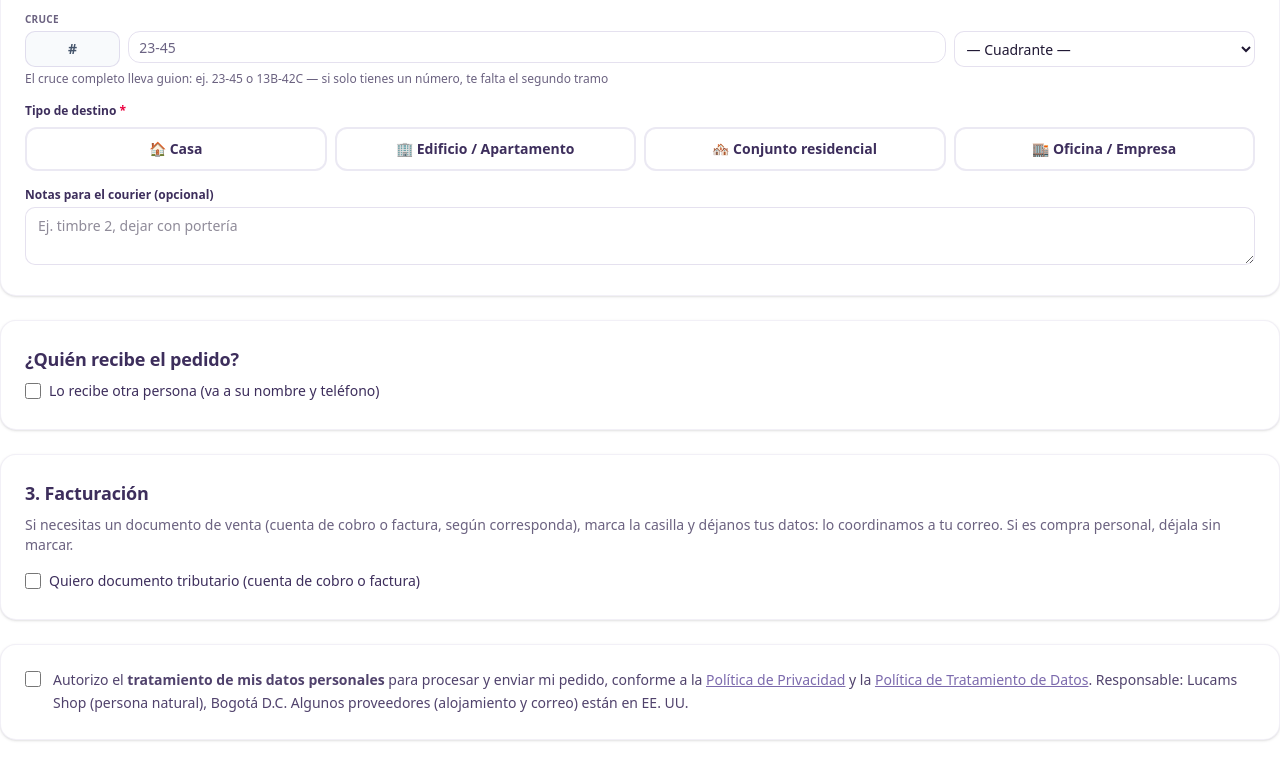
Test: DatosForm — 'Usar los datos del comprador' (facturación, flag ON) › la copia es una acción re-disparable: si el contacto cambia, se re-copia
The width and height of the screenshot is (1280, 759).
(page scrolled)
Click the checkbox named "wantsInvoice" at (33, 581), box [25,573,41,589]
(page scrolled)
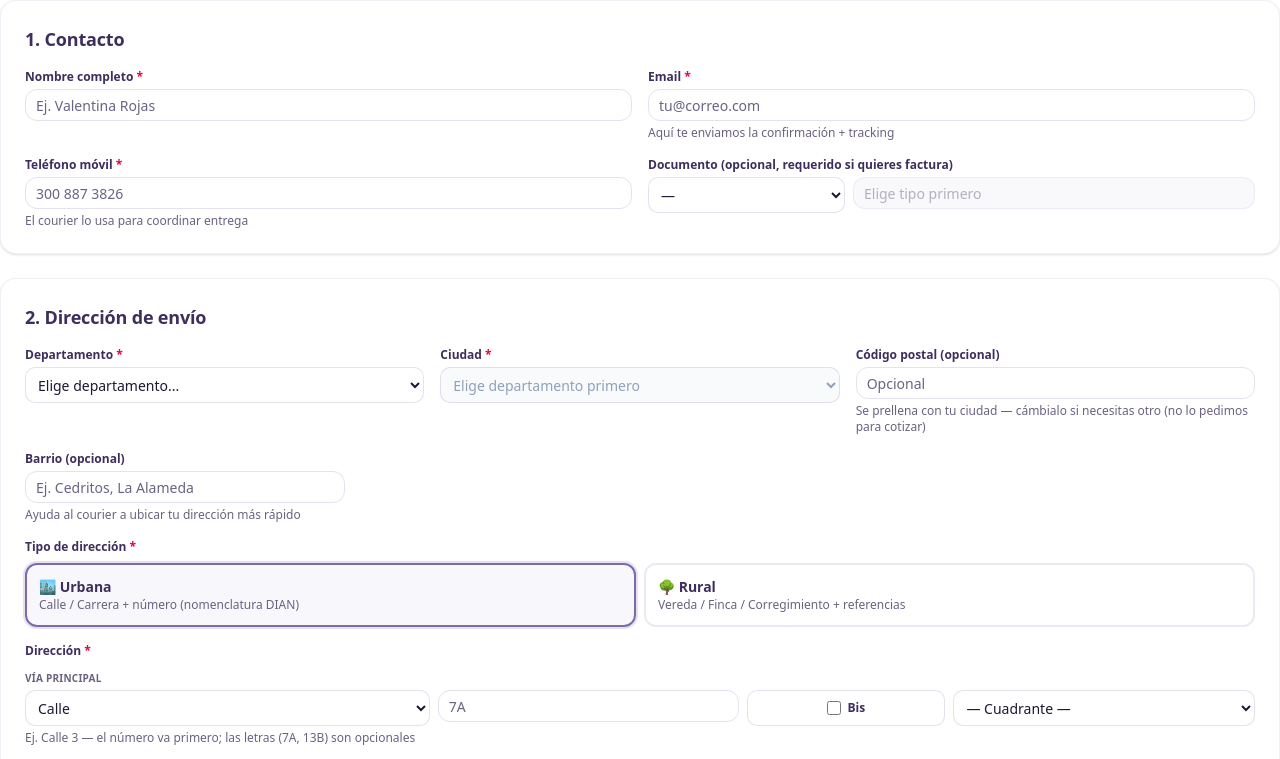
Type "Ana Gómez" into the field with id "fullName" at (328, 105), box [25,89,632,121]
(page scrolled)
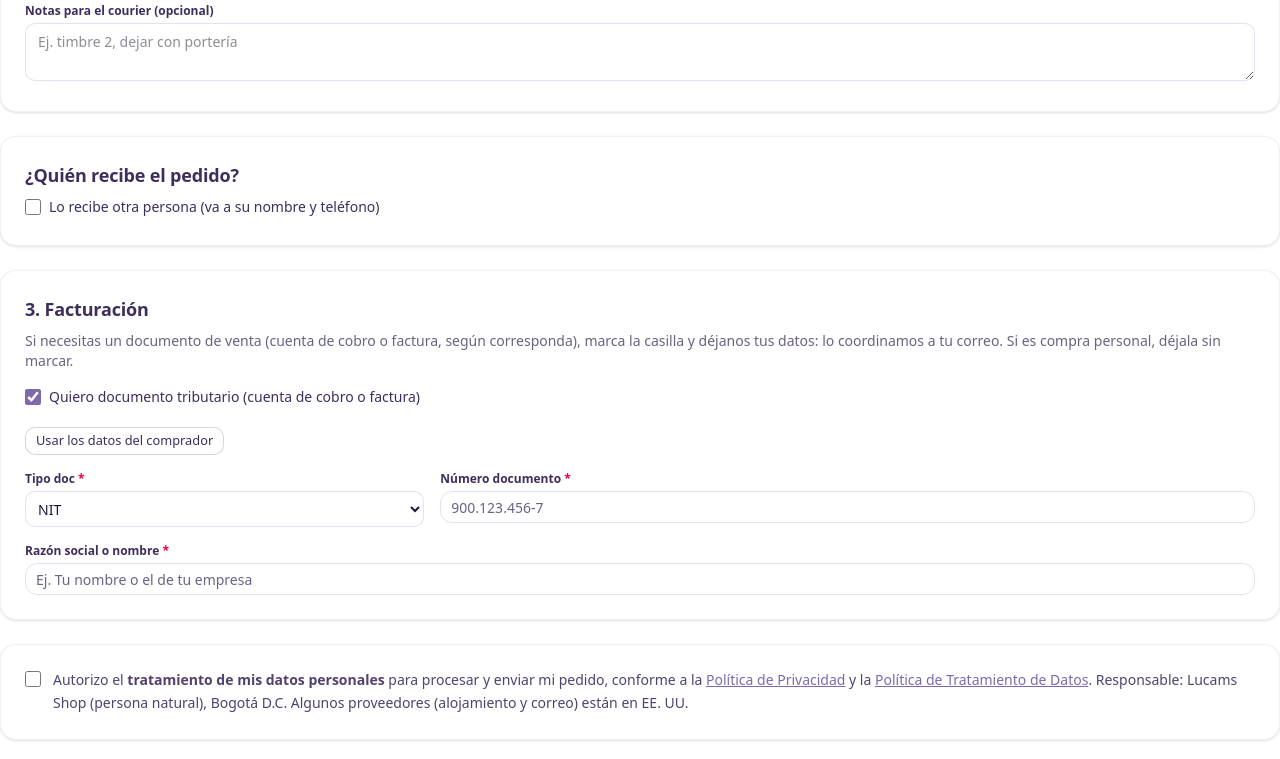
Click the button "Usar los datos del comprador" at (125, 441), box [25,427,224,455]
(page scrolled)
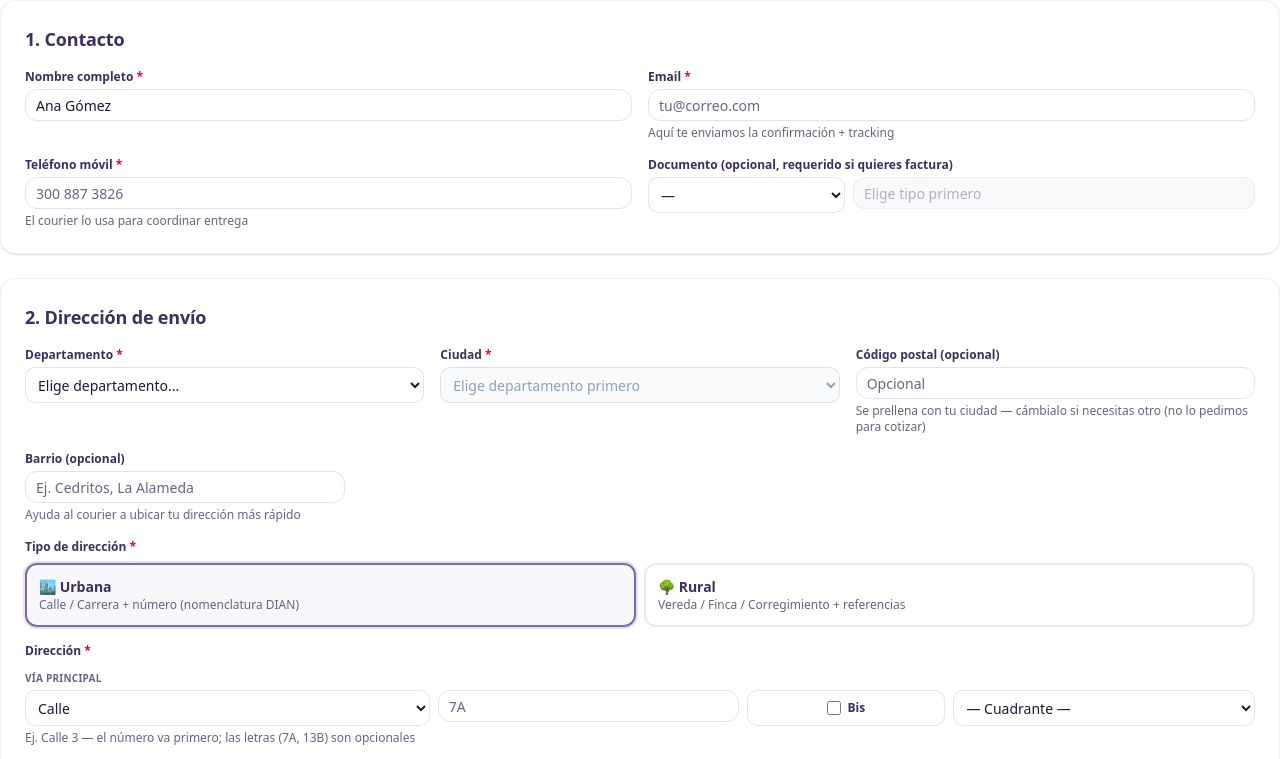
Replace the text in the field with id "fullName" with "Ana Gómez Paz" at (328, 105), box [25,89,632,121]
(page scrolled)
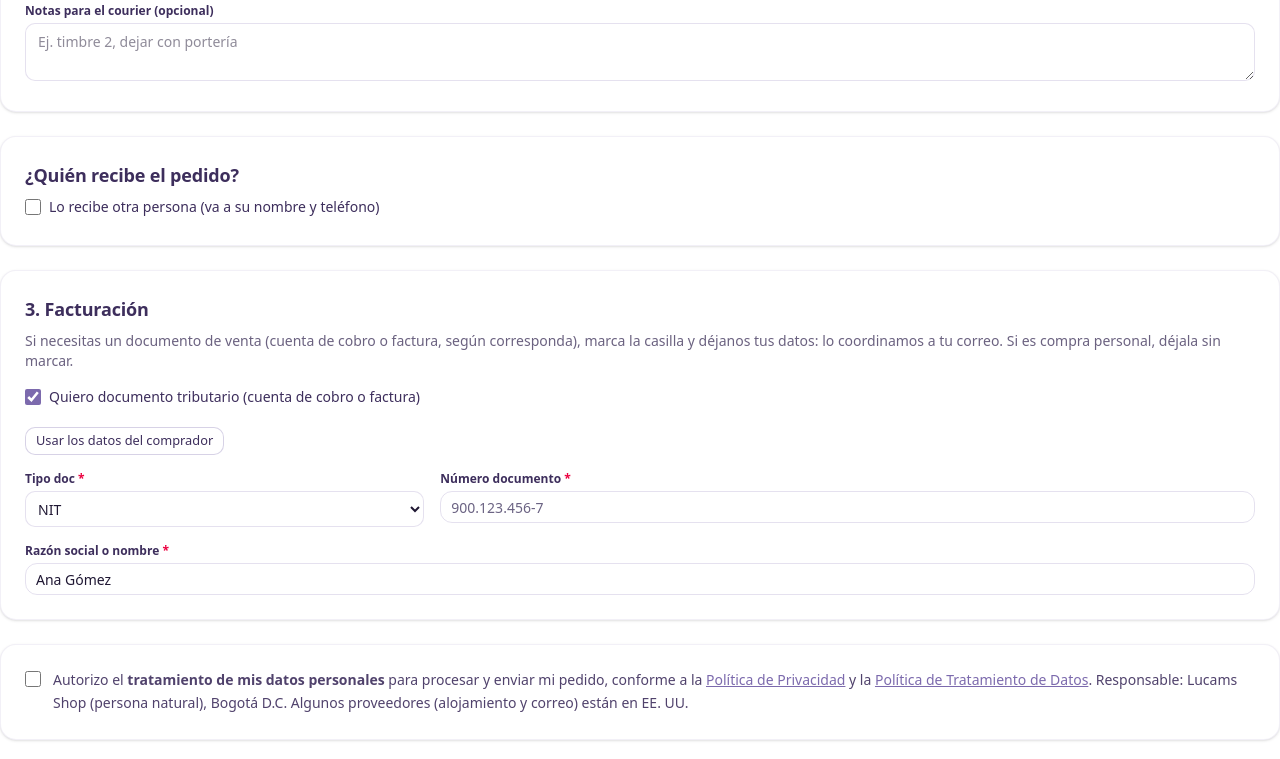
Click the button "Usar los datos del comprador" at (125, 441), box [25,427,224,455]
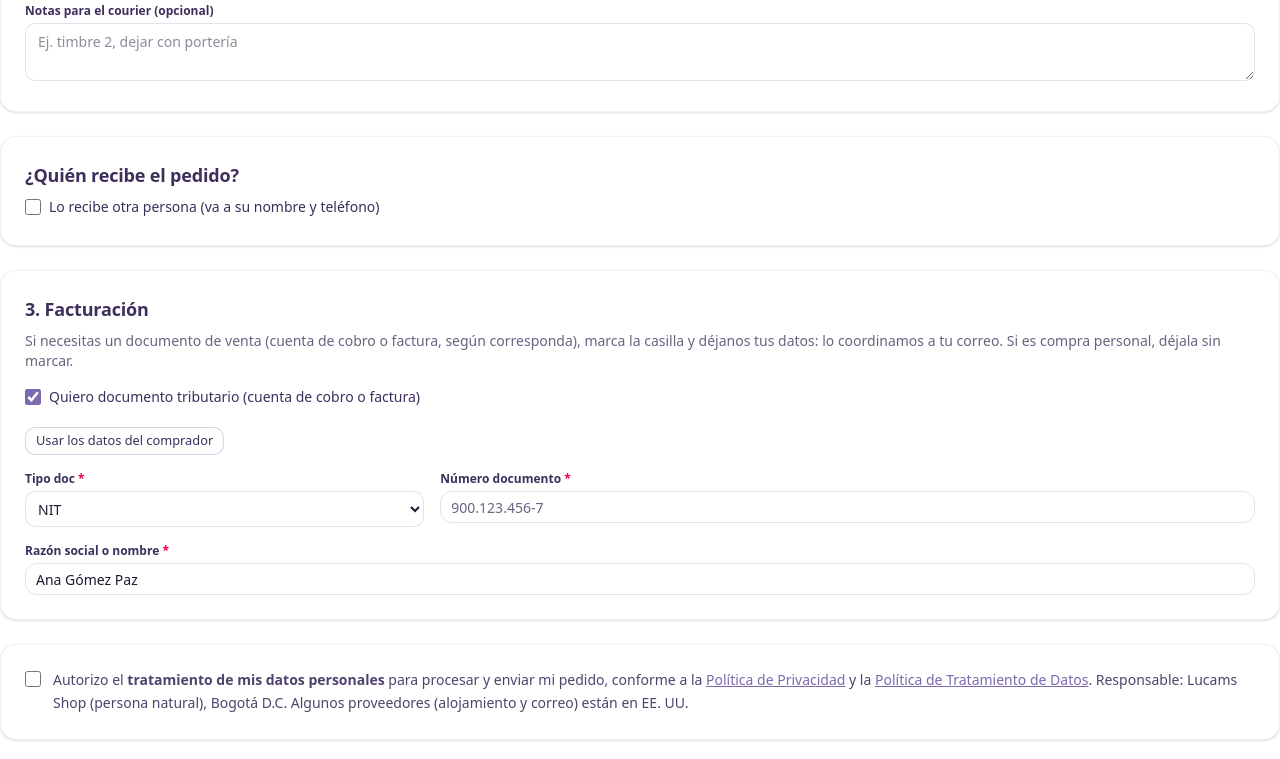
Expected: the field with id "billingName" holds "Ana Gómez Paz", [25,563,1255,595]
